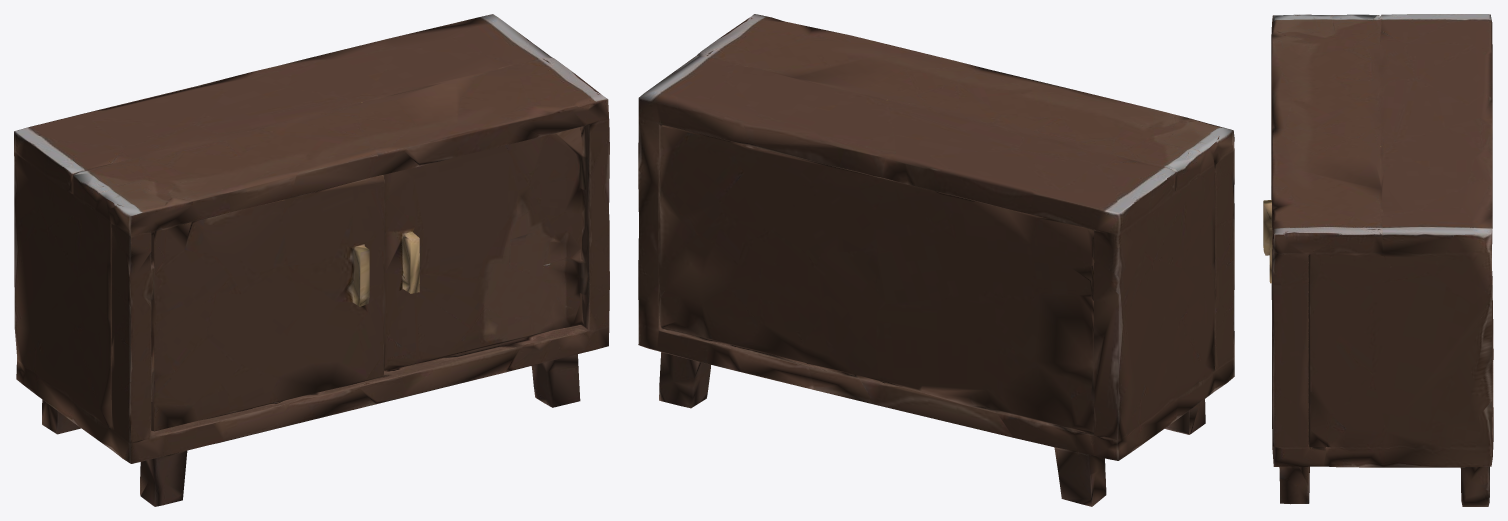
The model's file is lowCabinet.glb.
3 renders of one model, left to right at view 1: azimuth 30°, elevation 25°; view 2: azimuth 150°, elevation 25°; view 3: azimuth 270°, elevation 25°, orthographic. The views are drawn at different scales.
Bounding box in the file's own units: 1.9 × 1.14 × 0.84.
1 material, 1 textured.
